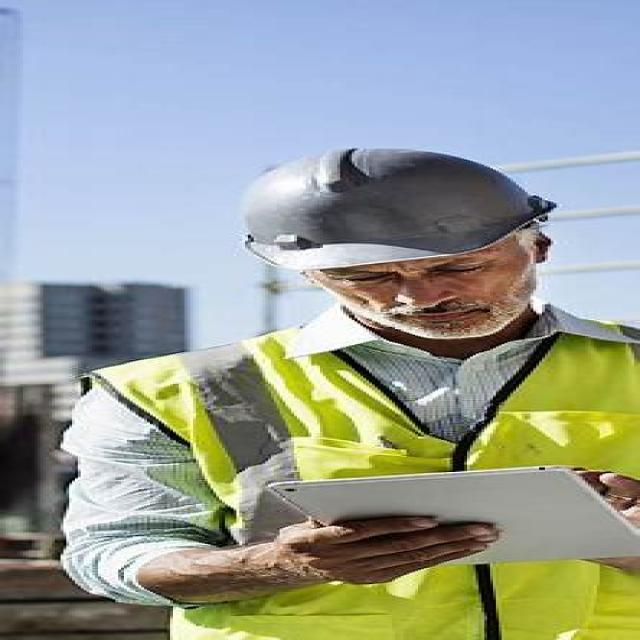not-gloved: (262, 496, 506, 598)
